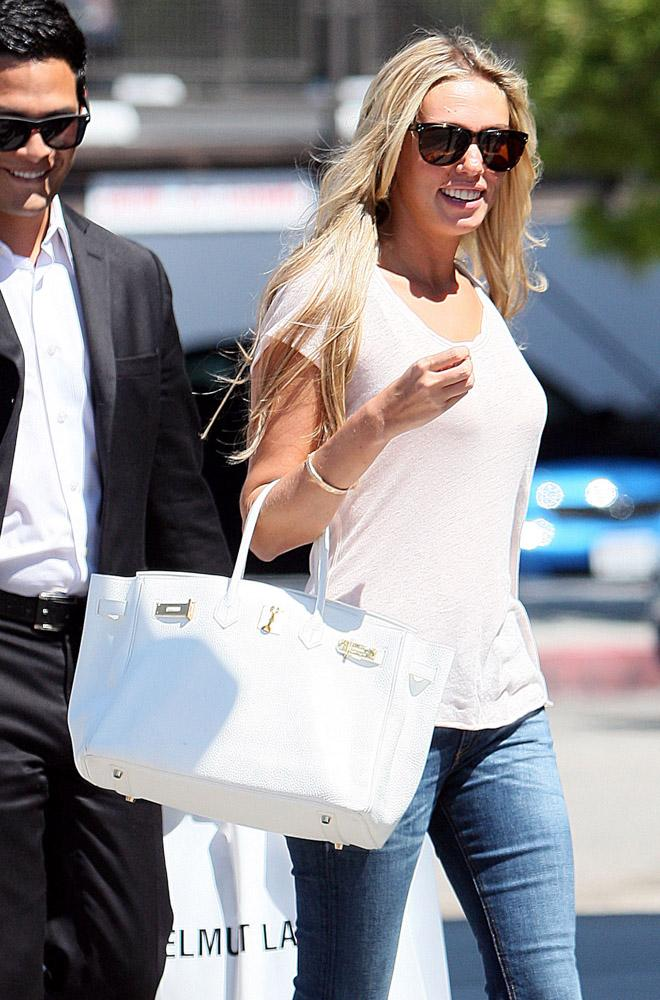handbag: (47, 465, 448, 863)
